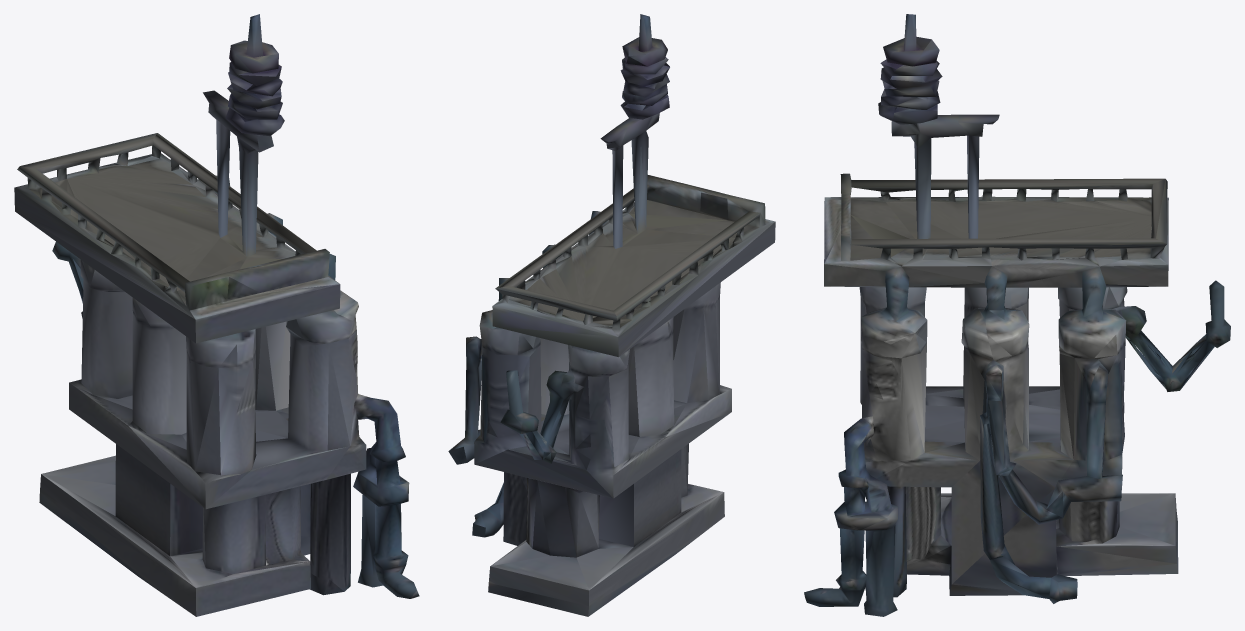
3 renders of one model, left to right at view 1: azimuth 30°, elevation 25°; view 2: azimuth 150°, elevation 25°; view 3: azimuth 270°, elevation 25°, orthographic. The views are drawn at different scales.
Visible parts, largest first — view 1: 也许是油桶？; view 2: 也许是油桶？; view 3: 也许是油桶？.
Part boxes in pixels (x1=…): 也许是油桶？: x1=14, y1=14, x2=419, y2=616; 也许是油桶？: x1=448, y1=14, x2=775, y2=616; 也许是油桶？: x1=804, y1=14, x2=1230, y2=616.
Size of the model in its own units: 10.61 by 25.8 by 18.16.
